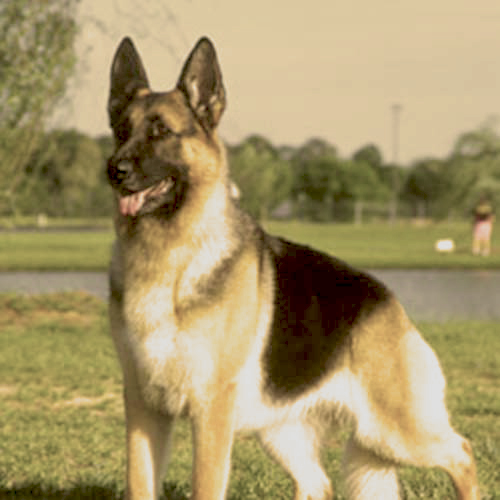dog: (106, 34, 476, 500)
